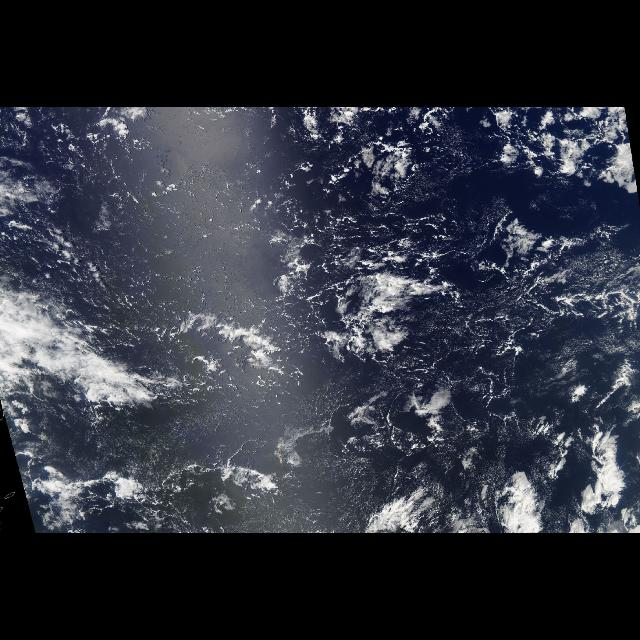Gravel: (65, 152, 571, 474)
